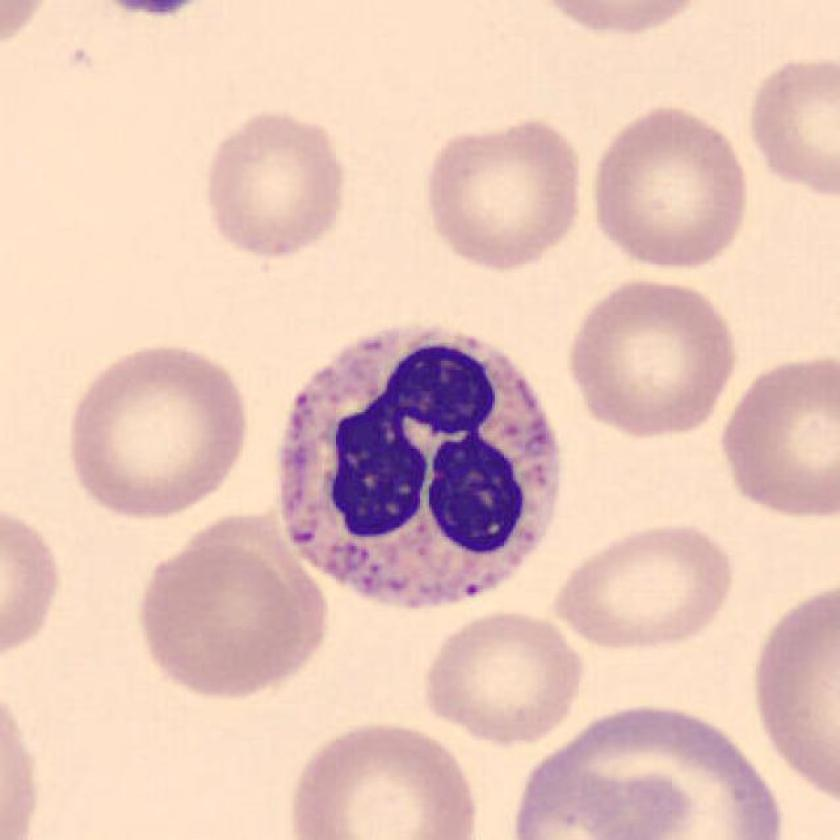neutrophil: (279, 329, 563, 604)
